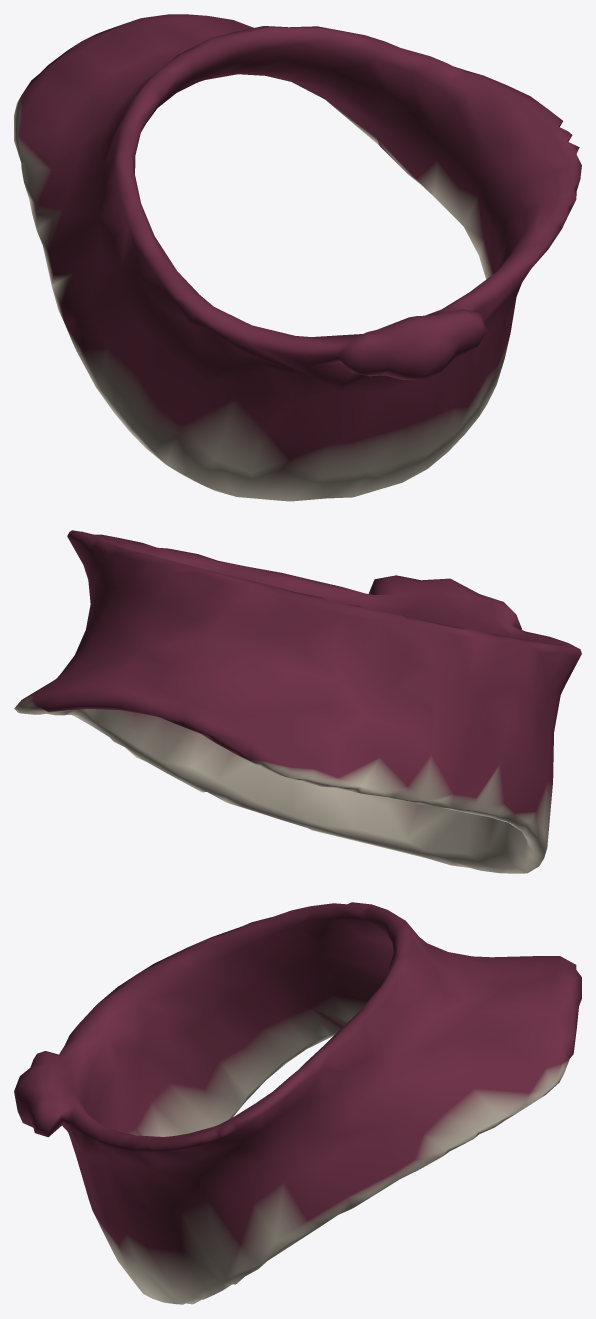
File: khanchoang.glb
3 views of the same model, one above another, from view 1: azimuth 30°, elevation 25°; view 2: azimuth 150°, elevation 25°; view 3: azimuth 270°, elevation 25° (orthographic). The views are drawn at different scales.
Parts seen in each view (by area): view 1: Khan_Choang; view 2: Khan_Choang; view 3: Khan_Choang.
Part boxes in pixels (left/top/right/bottom): Khan_Choang: left=14, top=14, right=581, bottom=501; Khan_Choang: left=14, top=530, right=581, bottom=873; Khan_Choang: left=14, top=902, right=581, bottom=1304.
Bounding box in the file's own units: 0.2527 × 0.1855 × 0.2862.
